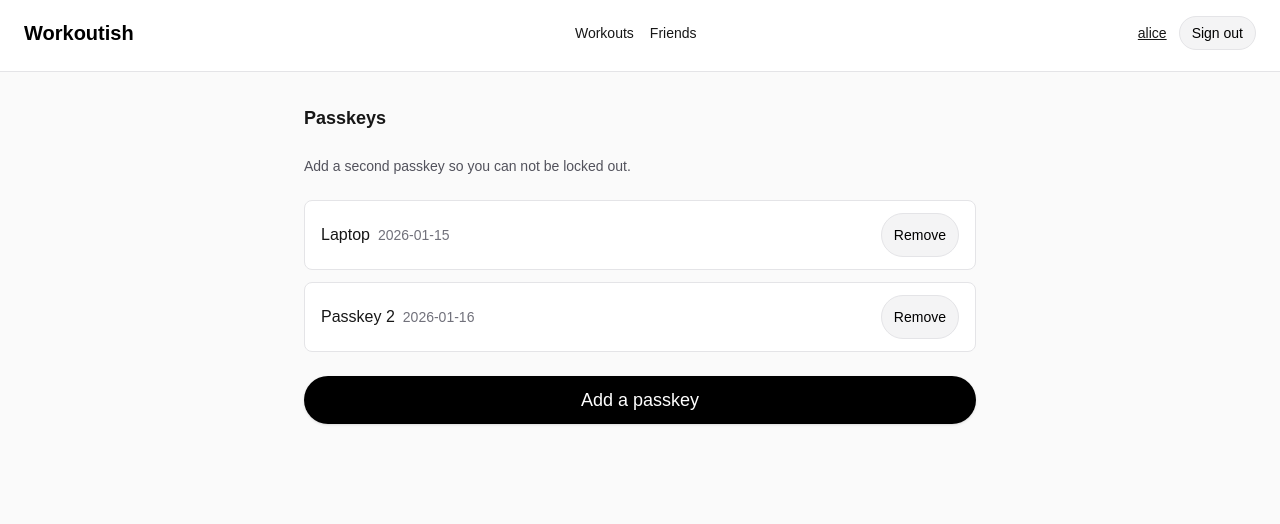
adds a passkey and appends it locally
This screenshot has width=1280, height=524.
Click the button "Add a passkey" at (640, 400), box top-left (304, 376), bottom-right (976, 424)
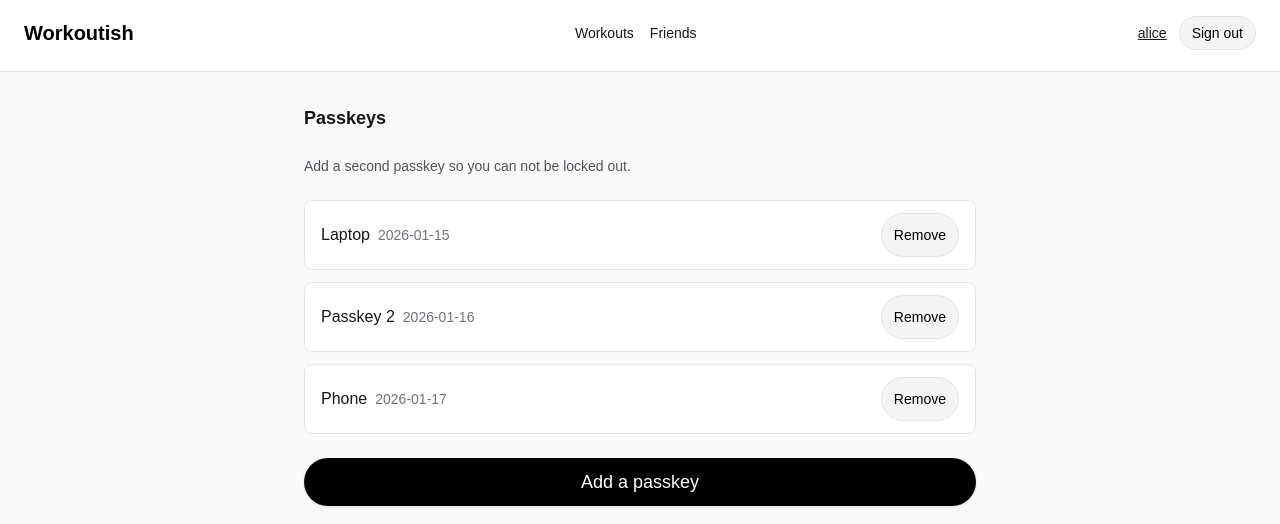
expect the text "Phone2026-01-17" is shown: met, box top-left (321, 387), bottom-right (447, 411)
